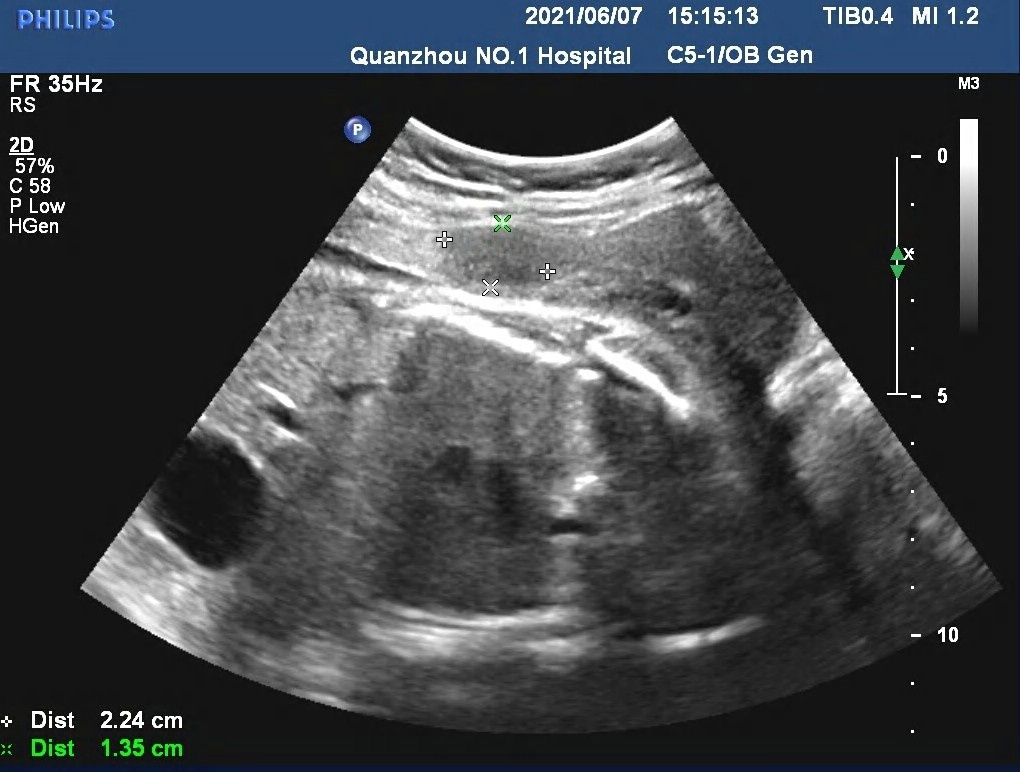肌瘤: (444, 222, 549, 291)
